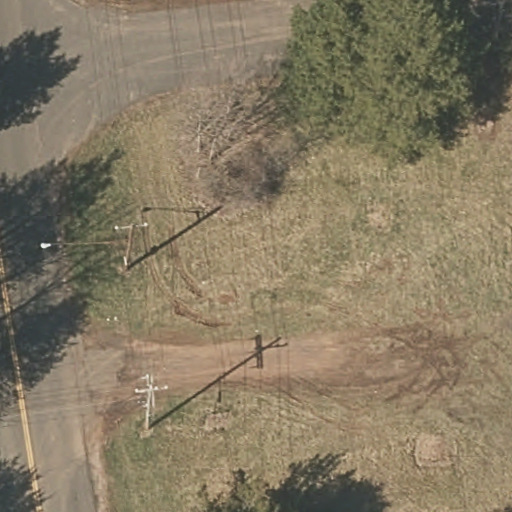DT: (134, 373, 171, 410), (110, 217, 150, 236)
